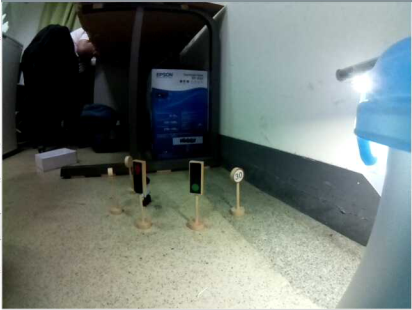Green: (187, 159, 207, 197)
Red: (130, 158, 148, 197)
Speed30: (230, 166, 245, 183)
